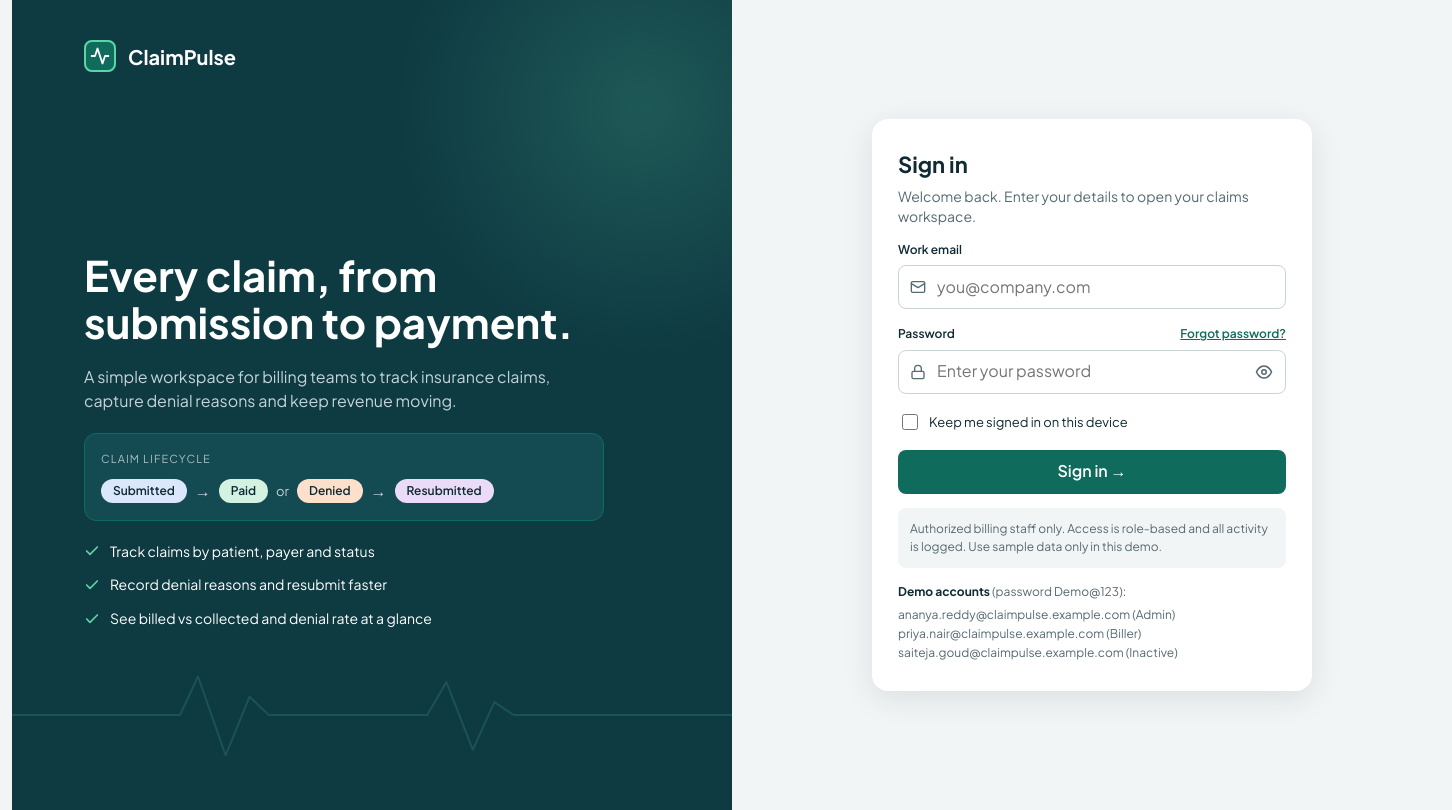
Test case: App routing and login › blocks inactive accounts
The width and height of the screenshot is (1452, 810).
Type "saiteja.goud@claimpulse.example.com" into the field labelled "Work email" at (1092, 287), box [898, 265, 1286, 309]
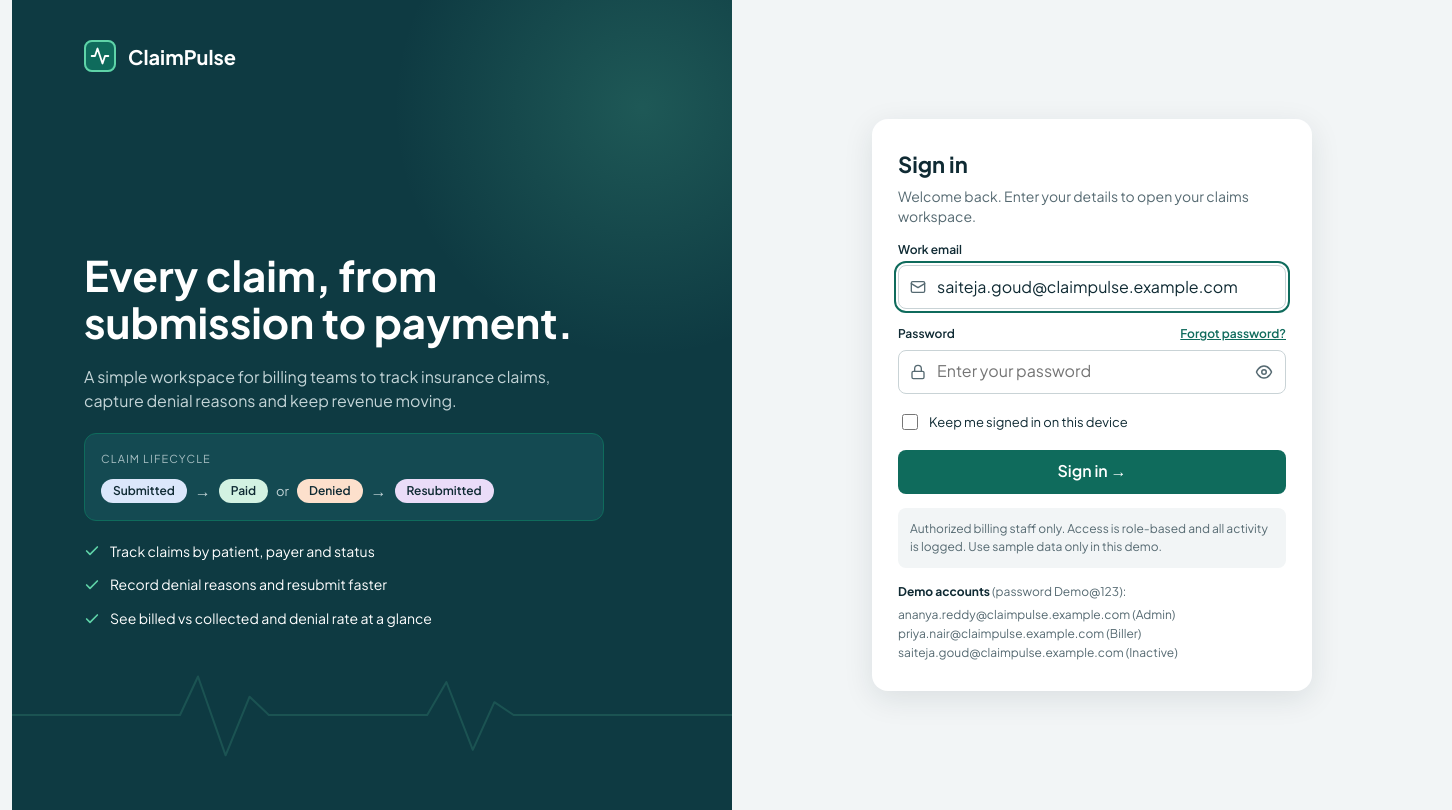
Type "Demo@123" into the password field labelled "Password" at (1092, 372), box [898, 350, 1286, 394]
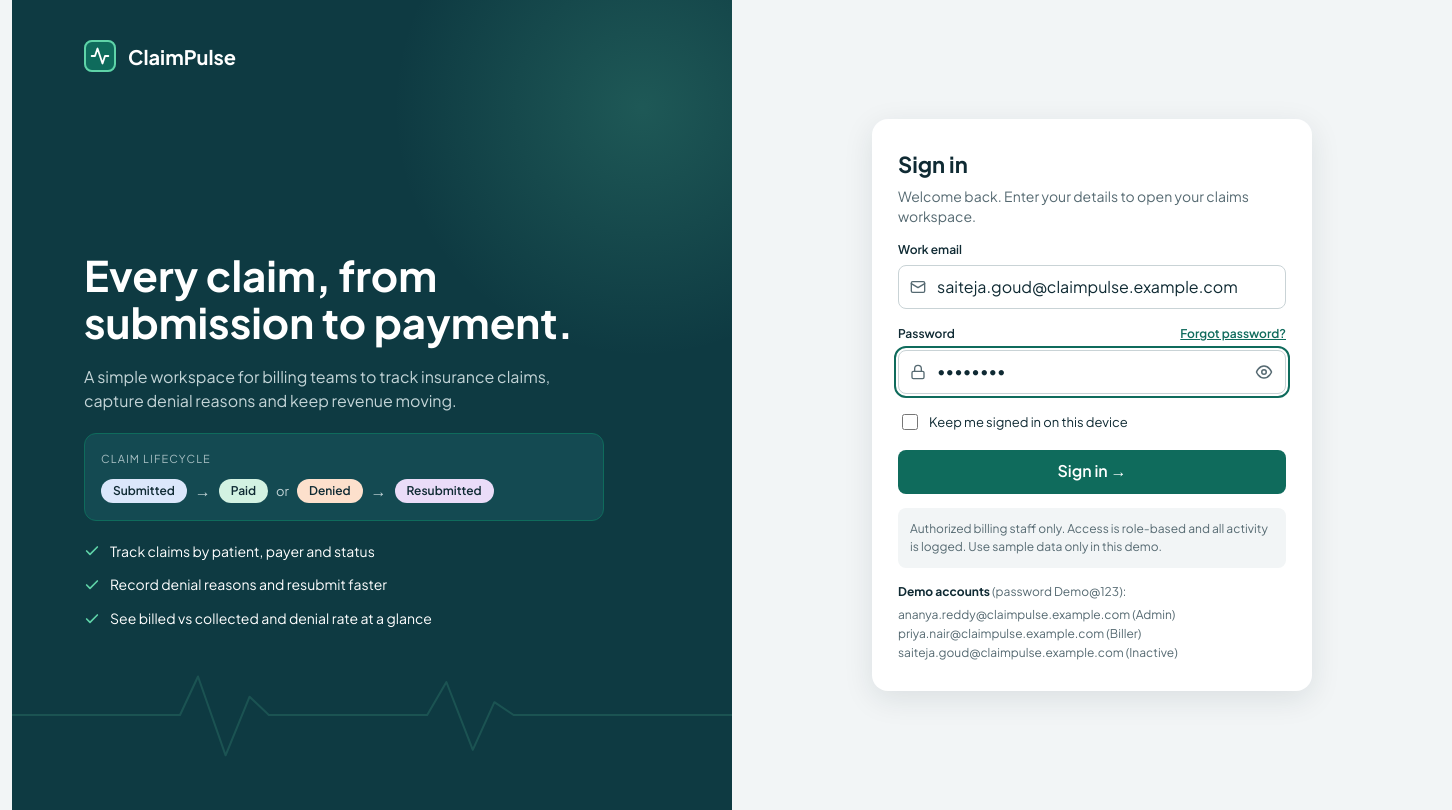
Click the button "Sign in →" at (1092, 472), box [898, 450, 1286, 494]
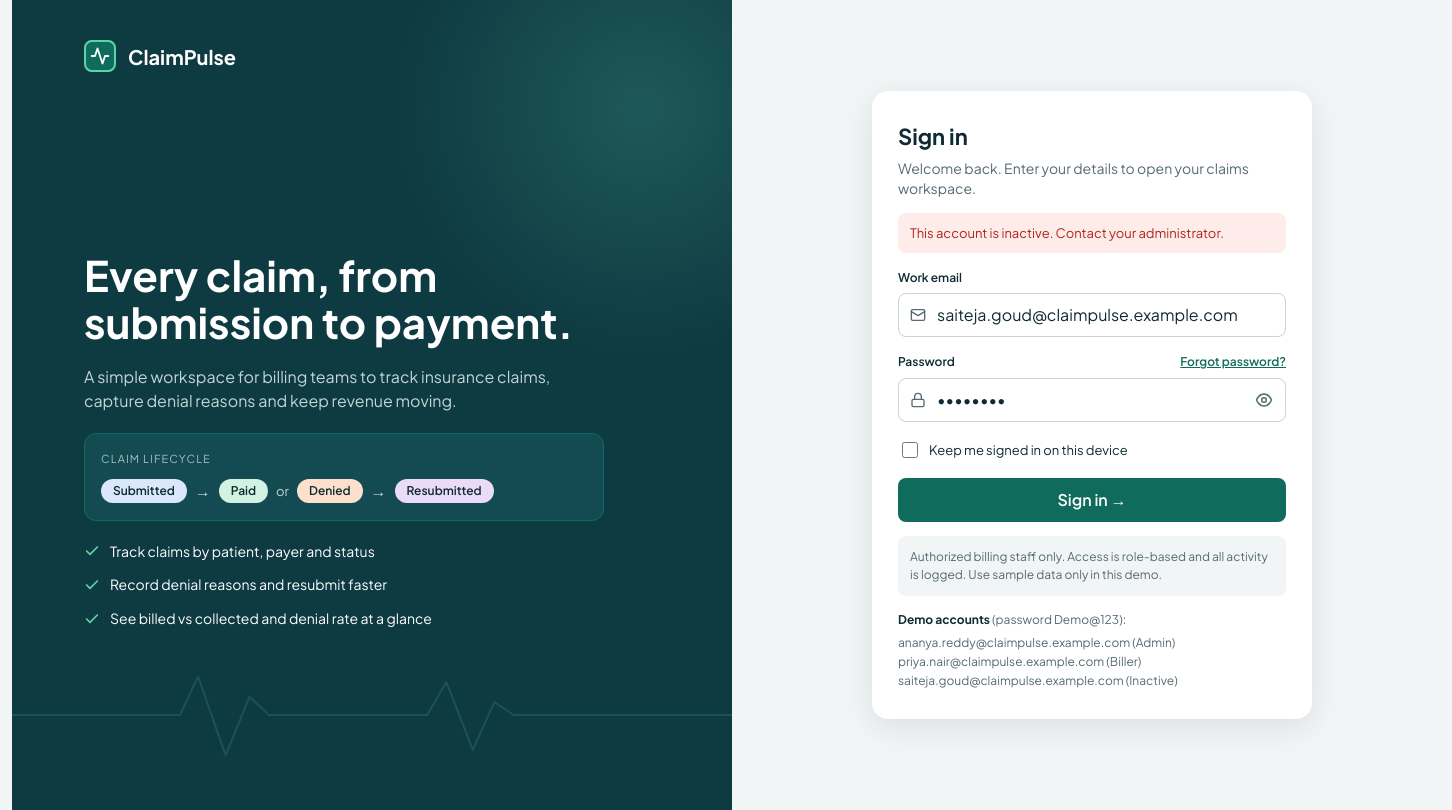
expect the message shows "inactive": met, box [910, 225, 1224, 241]
